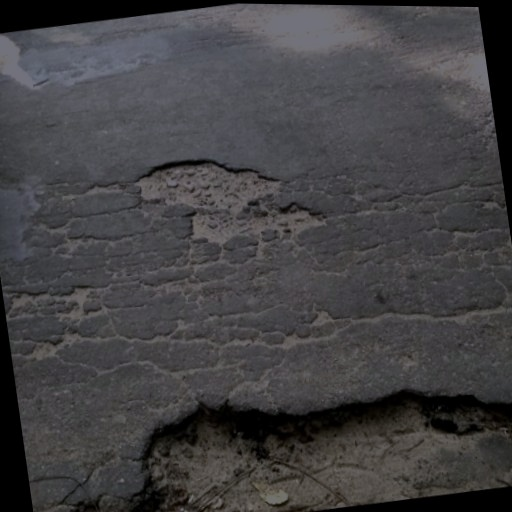pothole: (38, 347, 512, 512), (130, 136, 332, 256)
